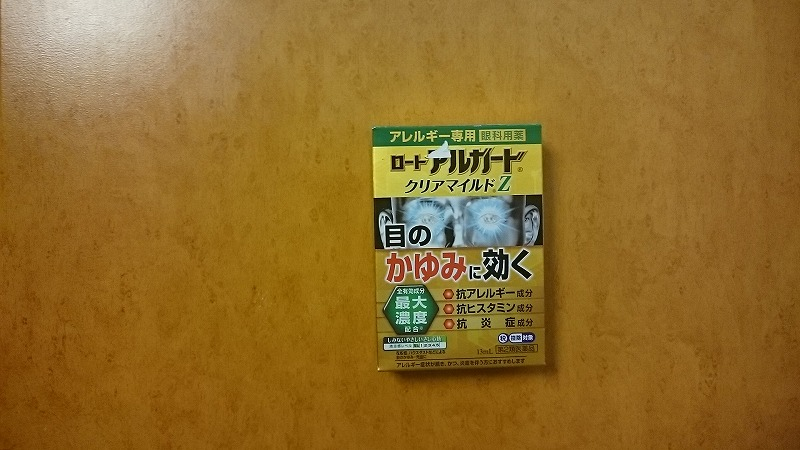C: (363, 118, 555, 380)
